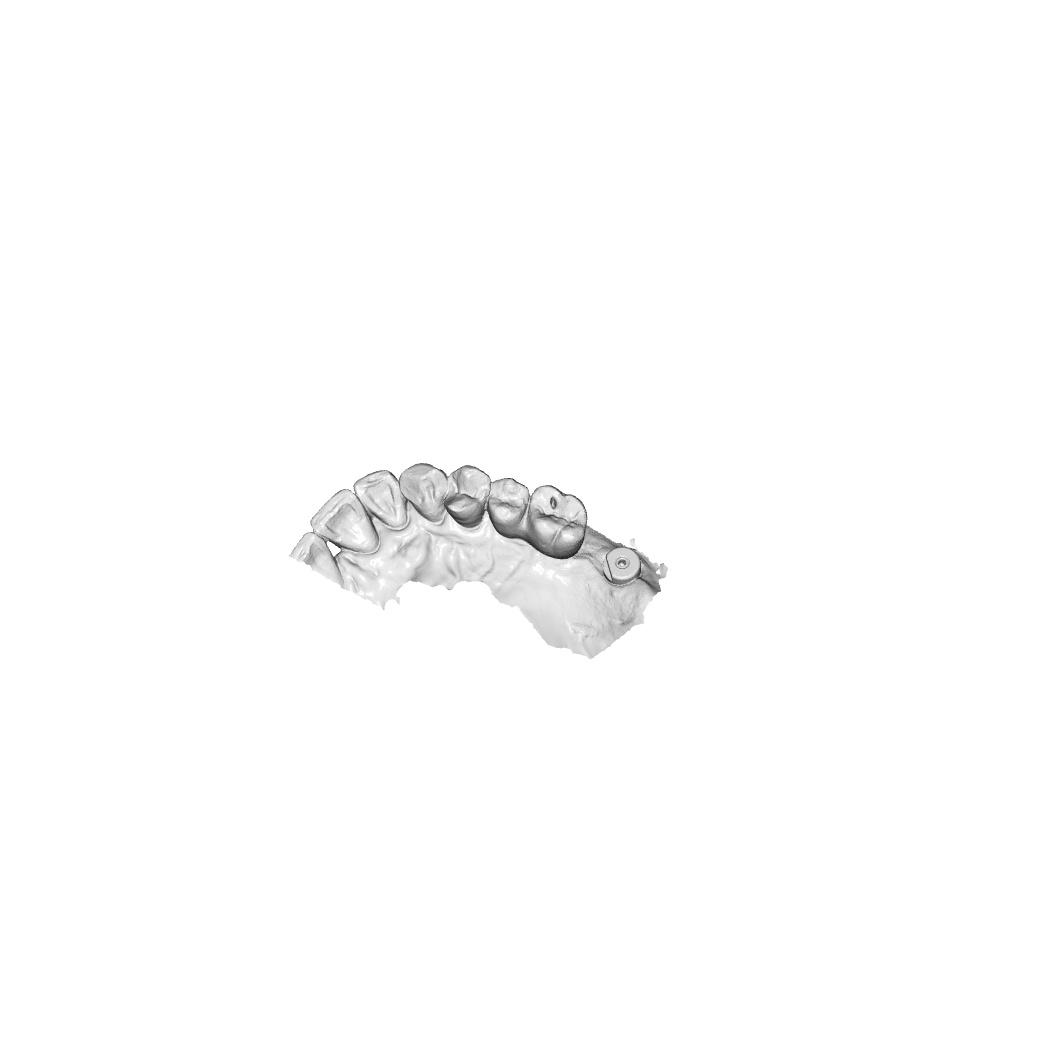canine: (398, 462, 449, 527)
implant: (601, 546, 643, 588)
incisor: (309, 487, 381, 555), (350, 467, 409, 533)
molar: (525, 483, 588, 561)
premolar: (444, 463, 491, 529), (486, 476, 530, 539)
